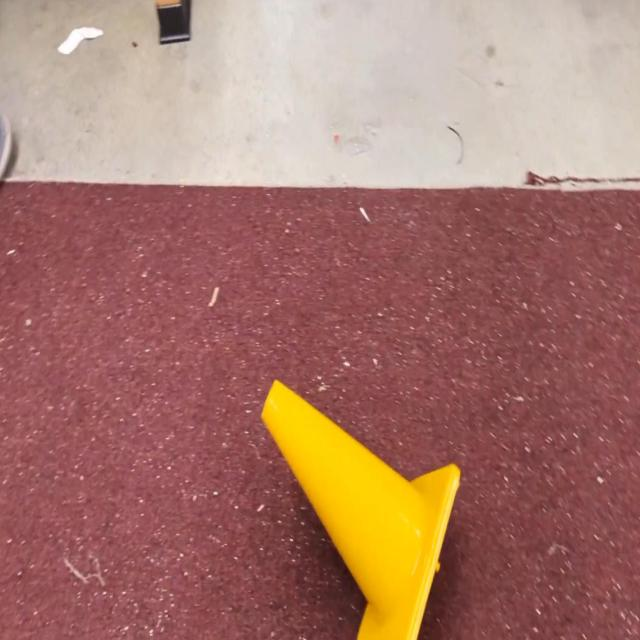frc_cone: (261, 380, 461, 640)
